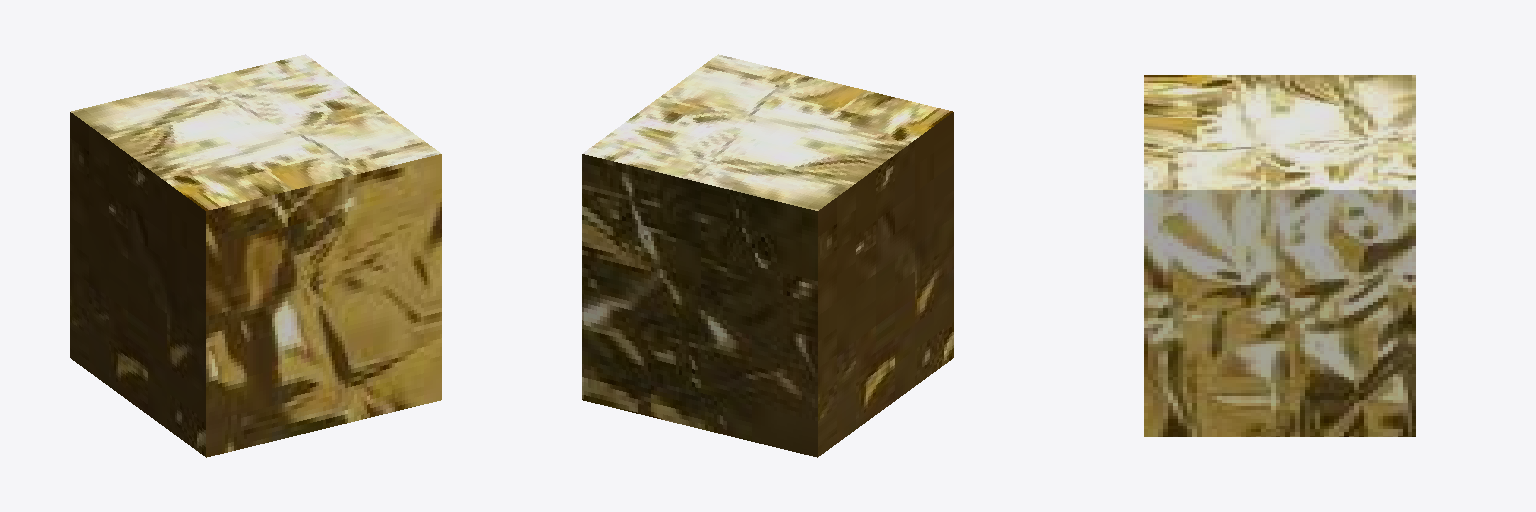
3 renders of one model, left to right at view 1: azimuth 30°, elevation 25°; view 2: azimuth 150°, elevation 25°; view 3: azimuth 270°, elevation 25°, orthographic.
Visible parts, largest first — view 1: satBox; view 2: satBox; view 3: satBox.
Boxes of the visible parts, box(x1,y1,x2,y2) form: satBox: box(70, 54, 441, 457); satBox: box(582, 54, 953, 457); satBox: box(1144, 75, 1415, 436).
Bounding box in the file's own units: 40.2 × 40.2 × 40.2.
Materials: 1 (1 with a texture image).